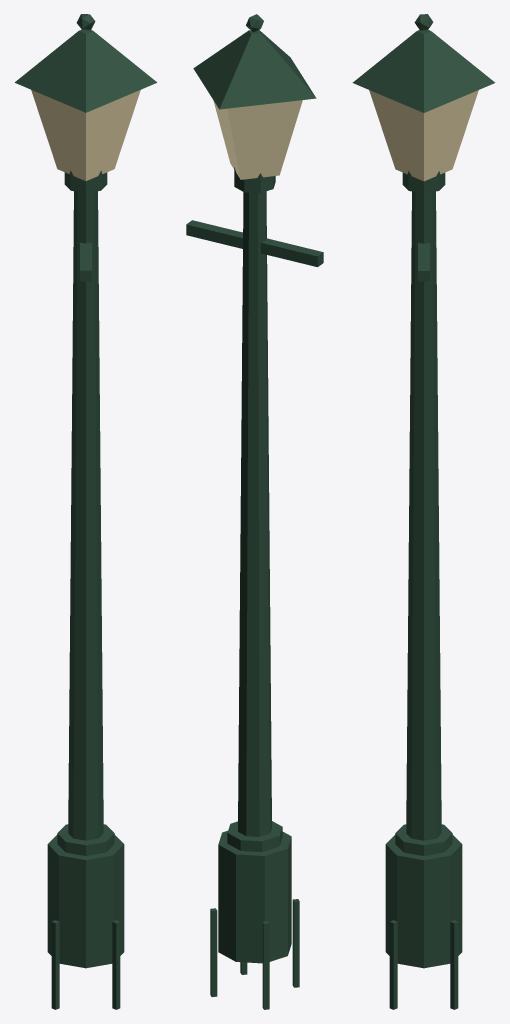
The model's file is getkong-hhlaterne.glb.
The picture shows the model from 3 angles, left to right: view 1: azimuth 90°, elevation 25°; view 2: azimuth 150°, elevation 25°; view 3: azimuth 270°, elevation 25°; orthographic projection.
Parts seen in each view (by area): view 1: laterne; view 2: laterne; view 3: laterne.
Boxes of the visible parts, bbox=[...] form: laterne: bbox=[15, 14, 156, 1009]; laterne: bbox=[186, 14, 323, 1009]; laterne: bbox=[352, 14, 495, 1009].
Size of the model in its own units: 0.64 by 4.54 by 0.6.
